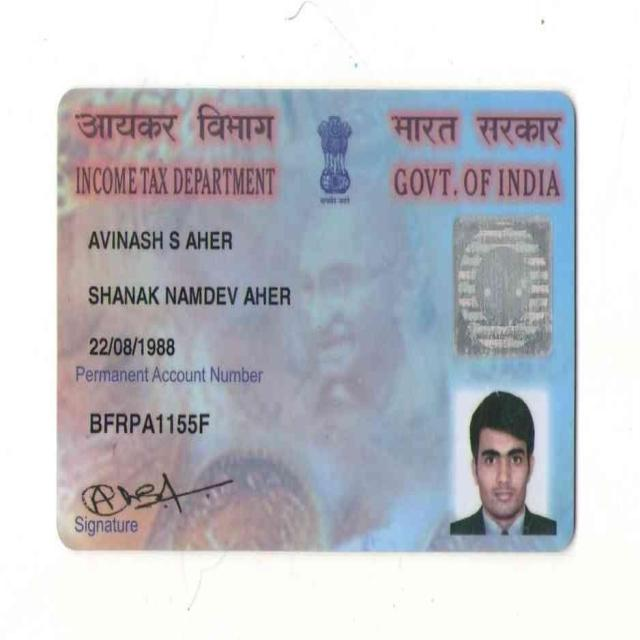pan_card: (65, 95, 570, 547)
